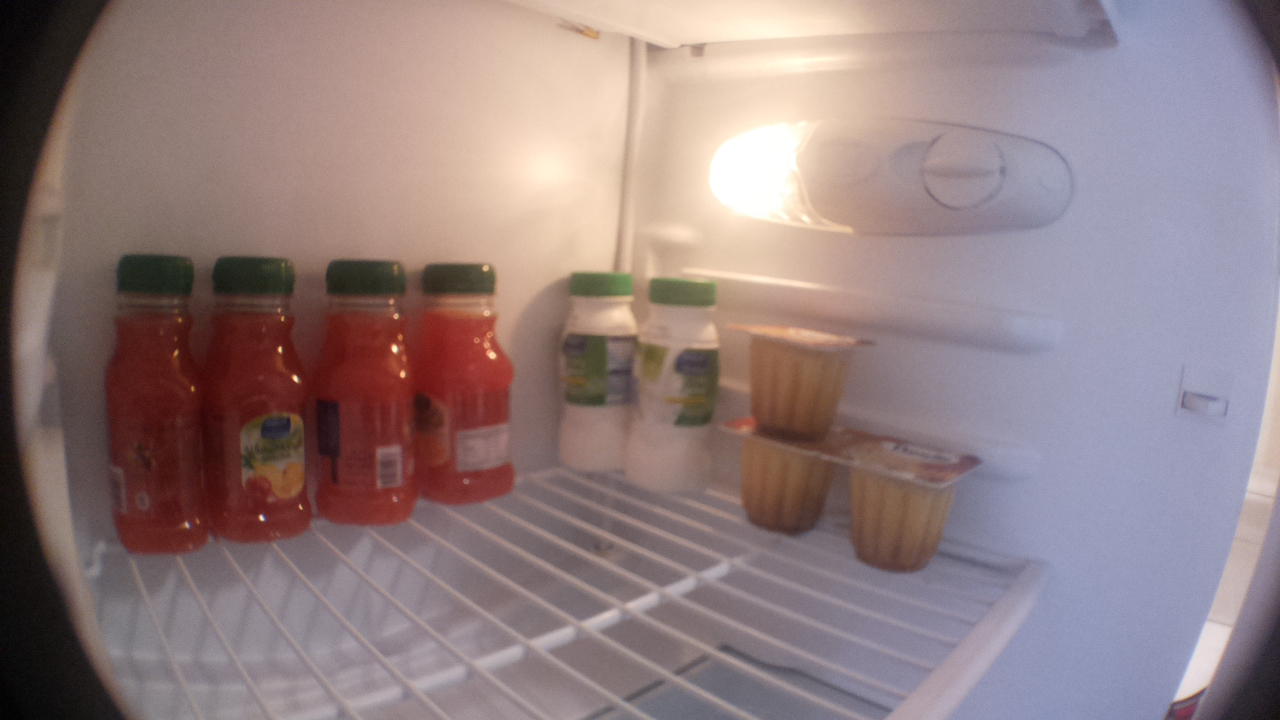caramel: (825, 430, 983, 579), (727, 312, 877, 445), (723, 417, 857, 540)
juice: (202, 250, 310, 545), (101, 252, 203, 558), (306, 254, 414, 536), (411, 258, 515, 509)
laban: (623, 279, 723, 495), (552, 270, 642, 481)
